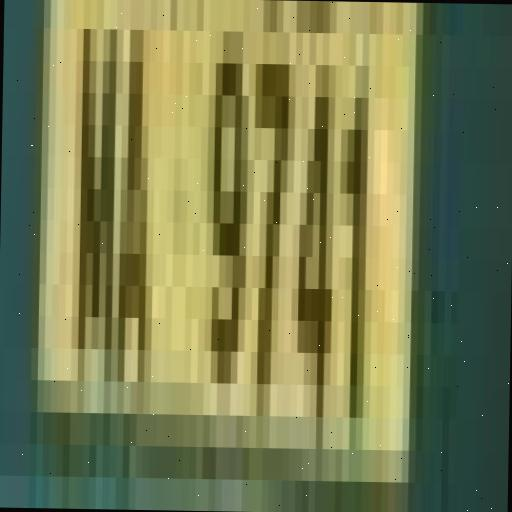number plate: (0, 27, 496, 484)
